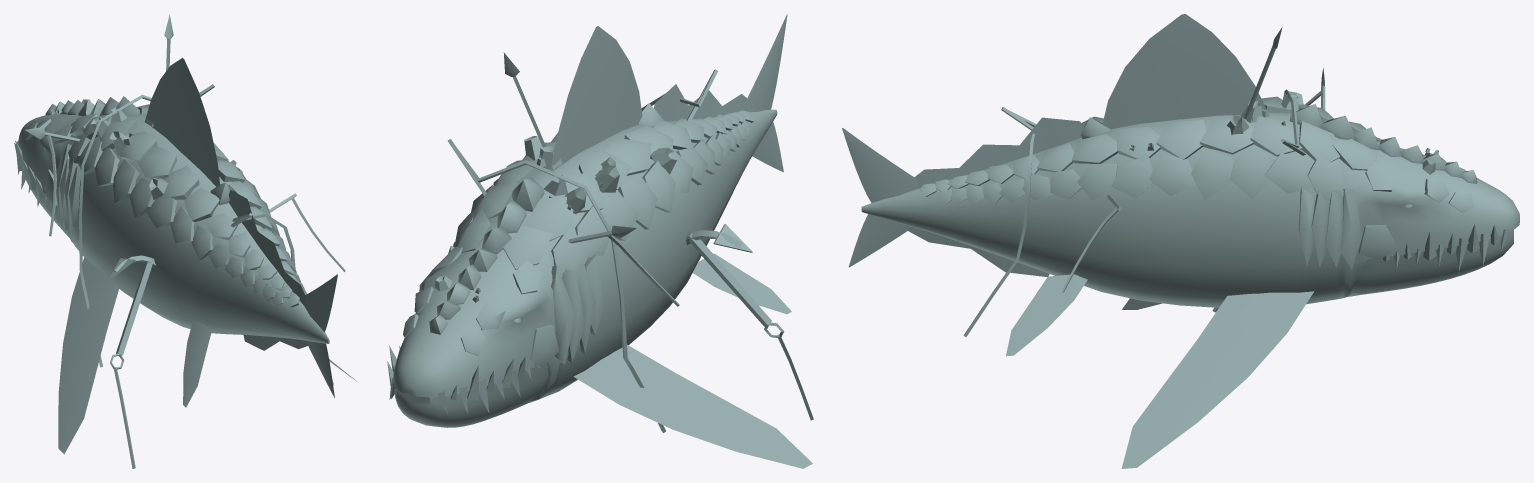
The model's file is leviathan_lo.glb.
3 renders of one model, left to right at view 1: azimuth 30°, elevation 25°; view 2: azimuth 150°, elevation 25°; view 3: azimuth 270°, elevation 25°, orthographic. The views are drawn at different scales.
Visible parts, largest first — view 1: leviathan_lo; view 2: leviathan_lo; view 3: leviathan_lo.
Part boxes in pixels (<box>): leviathan_lo: <box>14,14,356,468</box>; leviathan_lo: <box>387,14,813,468</box>; leviathan_lo: <box>842,14,1519,468</box>.
Bounding box in the file's own units: 22.18 × 24.73 × 39.98.
